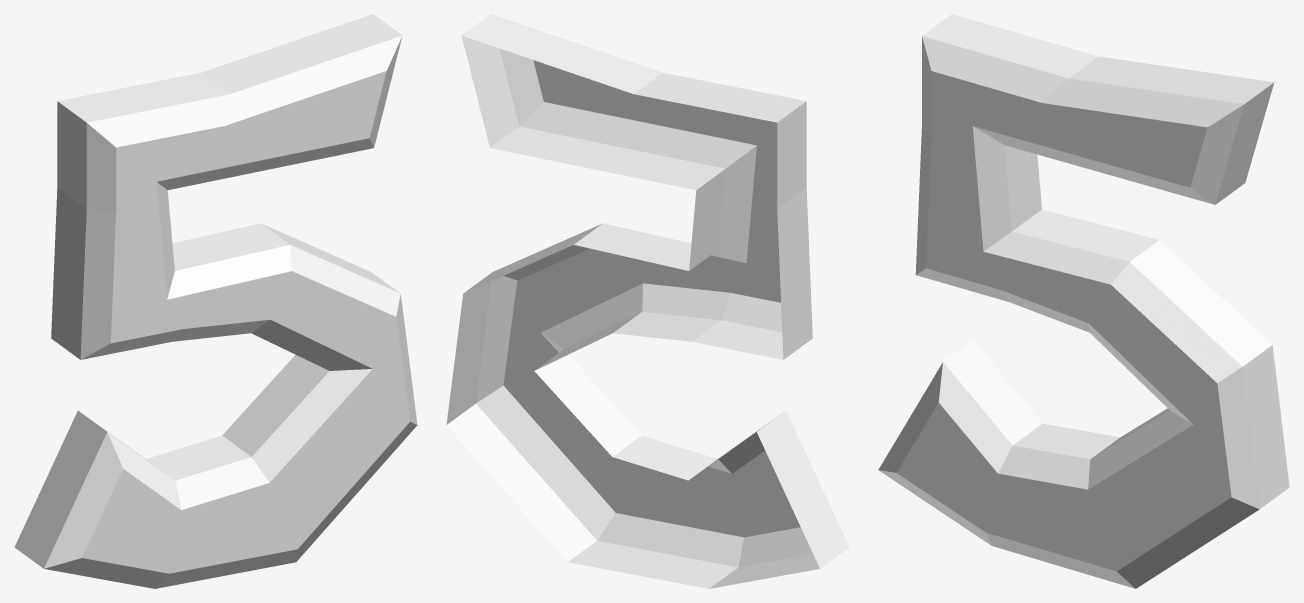
Rendered from Number_05.fbx.
The picture shows the model from 3 angles, left to right: view 1: azimuth 30°, elevation 25°; view 2: azimuth 150°, elevation 25°; view 3: azimuth 330°, elevation 25°; orthographic projection. The views are drawn at different scales.
Parts seen in each view (by area): view 1: Number05_Model; view 2: Number05_Model; view 3: Number05_Model.
Part boxes in pixels (x1=…): Number05_Model: x1=14, y1=14, x2=417, y2=588; Number05_Model: x1=446, y1=14, x2=849, y2=588; Number05_Model: x1=878, y1=14, x2=1289, y2=588.
Size of the model in its own units: 87.1 by 112 by 15.96.
